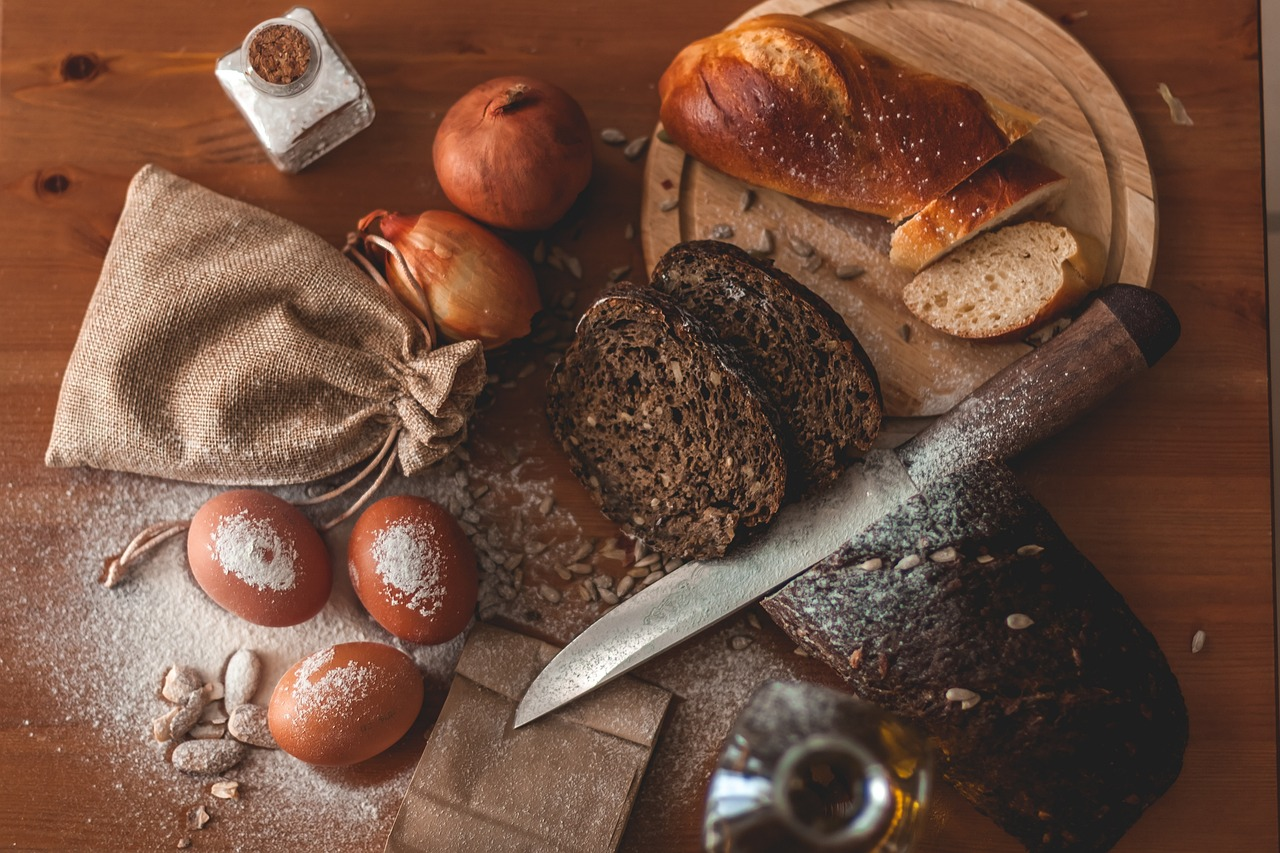knife: (503, 293, 1168, 748)
